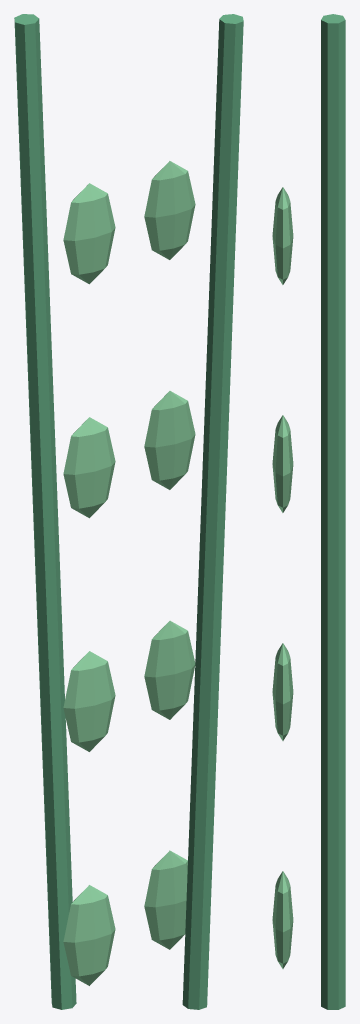
Rendered from liana.glb.
3 views of the same model, side by side, from view 1: azimuth 30°, elevation 25°; view 2: azimuth 210°, elevation 25°; view 3: azimuth 270°, elevation 25° (orthographic). The views are drawn at different scales.
Visible parts, largest first — view 1: liana; view 2: liana; view 3: liana.
Part boxes in pixels (bbox=[...]): liana: bbox=[14, 14, 115, 1009]; liana: bbox=[144, 14, 243, 1009]; liana: bbox=[272, 14, 345, 1009].
Bounding box in the file's own units: 0.4 × 5.1 × 0.3485.
